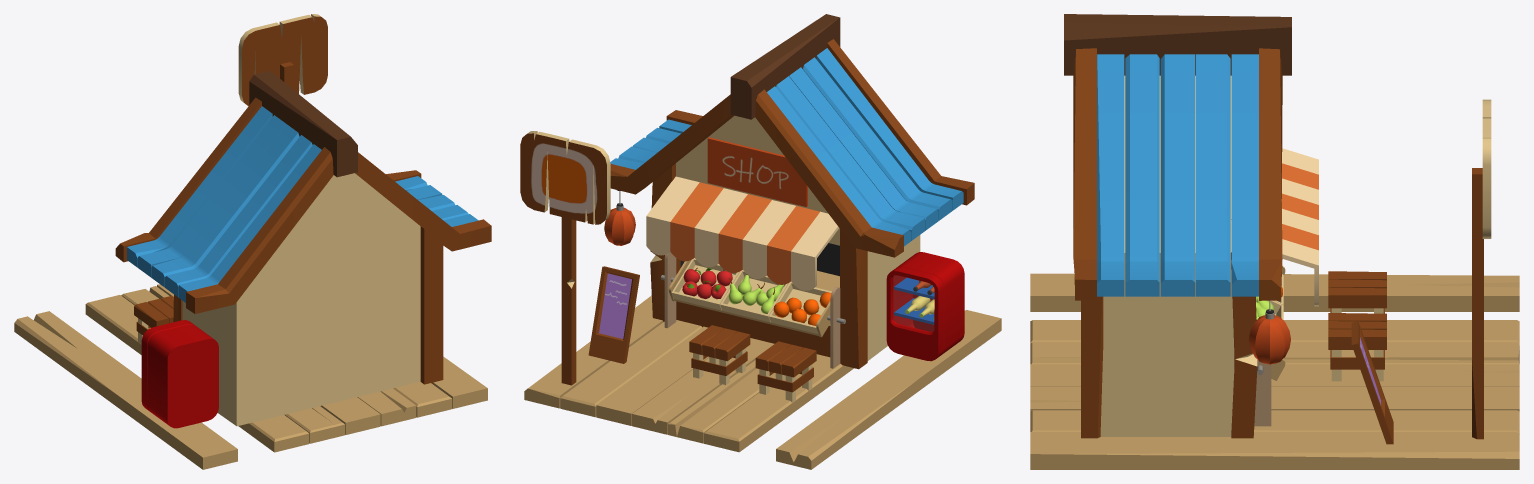
Rendered from Chinese_Shop_Scene1.fbx.
The picture shows the model from 3 angles, left to right: view 1: azimuth 30°, elevation 25°; view 2: azimuth 150°, elevation 25°; view 3: azimuth 270°, elevation 25°; orthographic projection. The views are drawn at different scales.
Parts seen in each view (by area): view 1: Chinese_Shop_Scene1; view 2: Chinese_Shop_Scene1; view 3: Chinese_Shop_Scene1.
Part boxes in pixels (x1,y1,x2,y2): Chinese_Shop_Scene1: (14,14,491,469); Chinese_Shop_Scene1: (520,14,1001,469); Chinese_Shop_Scene1: (1030,14,1519,469).
Bounding box in the file's own units: 11.73 × 12.51 × 10.4.
